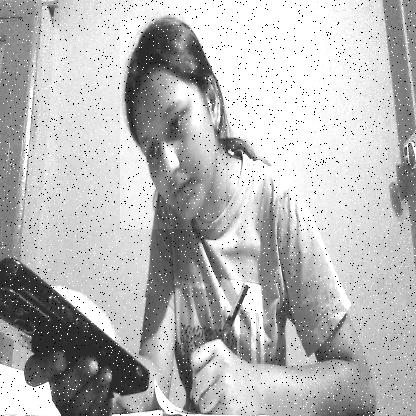Distracted: (120, 19, 226, 229)
